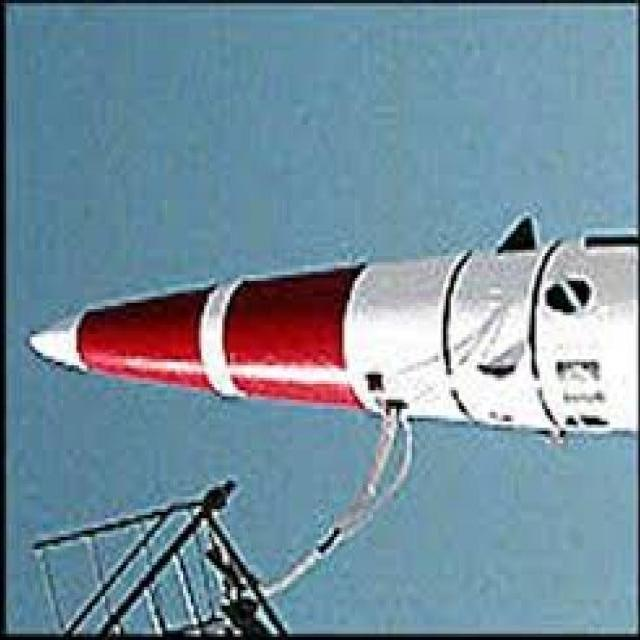missile: (28, 207, 640, 437)
